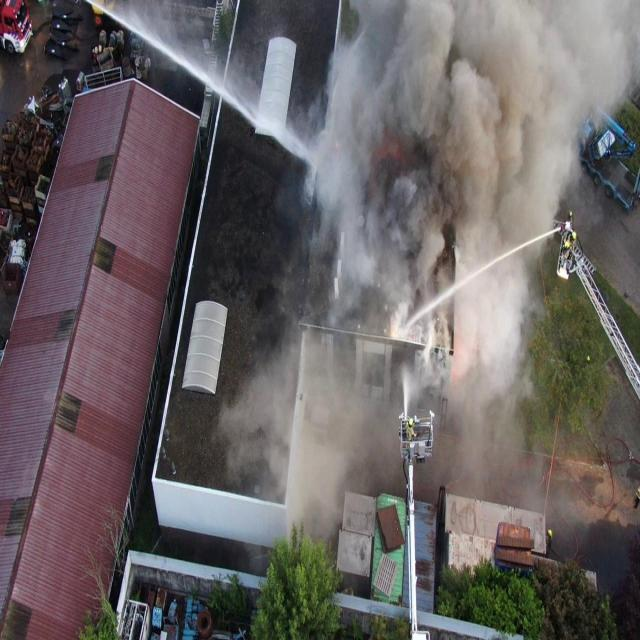Smoke: (215, 0, 640, 544)
